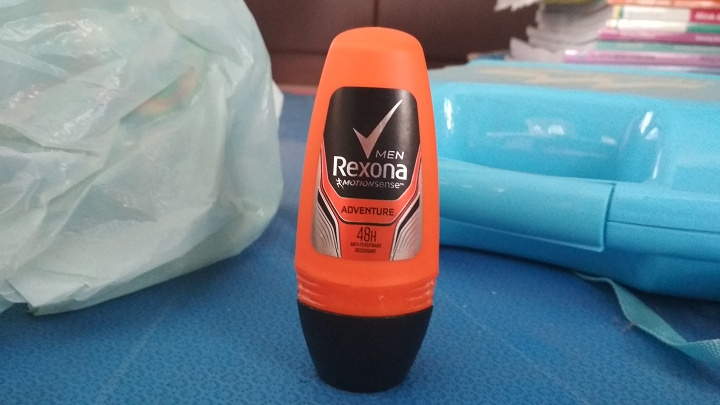rexona: (295, 18, 437, 393)
